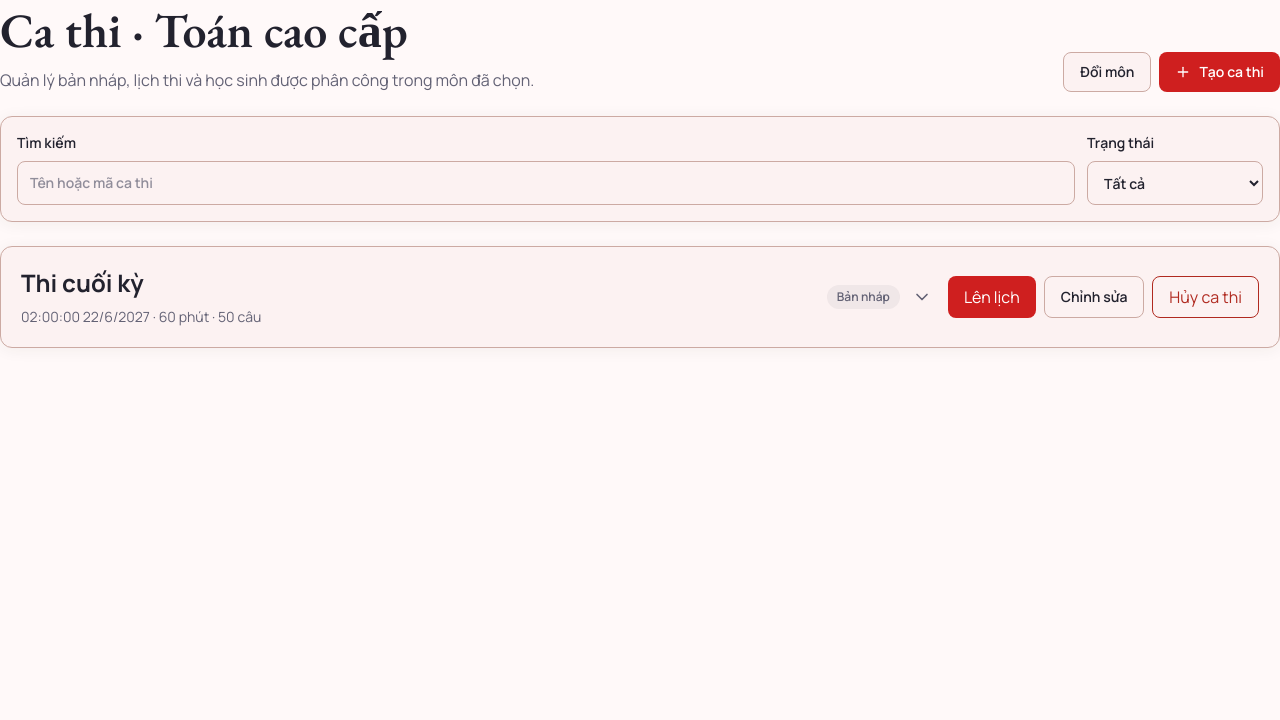
Test case: SubjectExamListPage › prevents duplicate scheduling submissions while pending
Step 1. Click the button "Lên lịch" → (992, 297), box [948,276,1036,318]
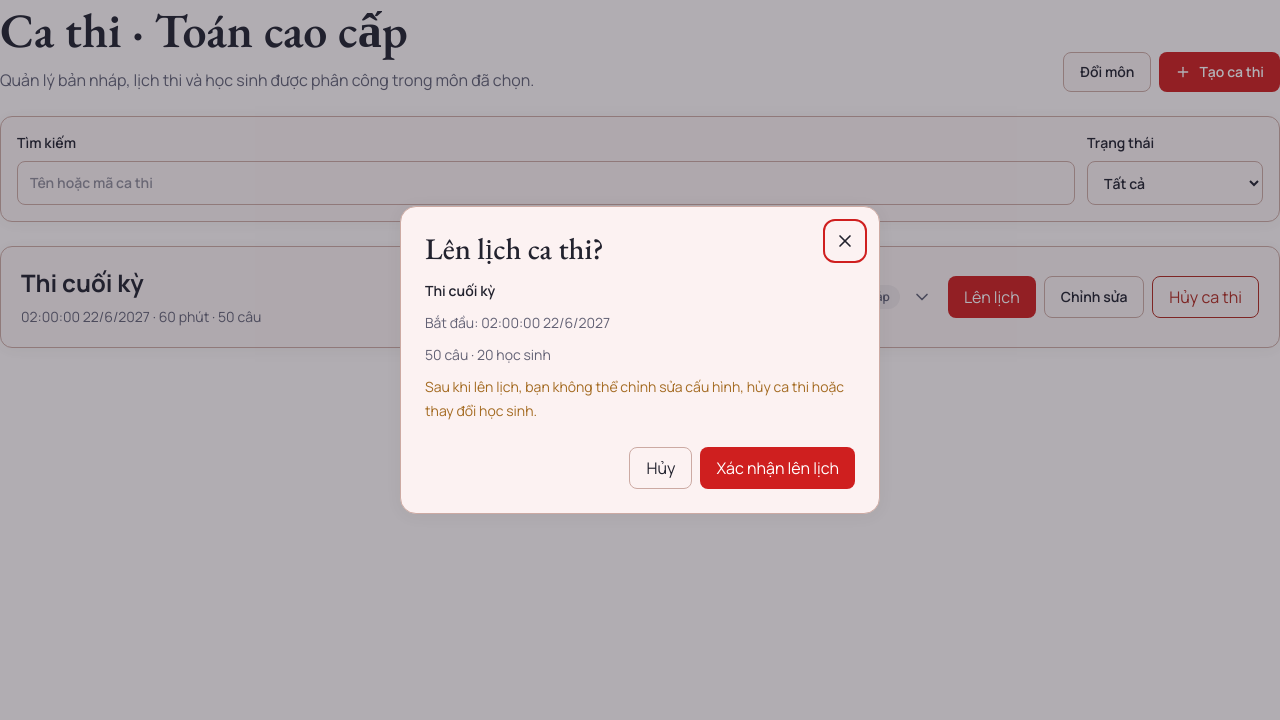
Step 2. Double-click the button "Xác nhận lên lịch" → (778, 468), box [700,447,855,489]
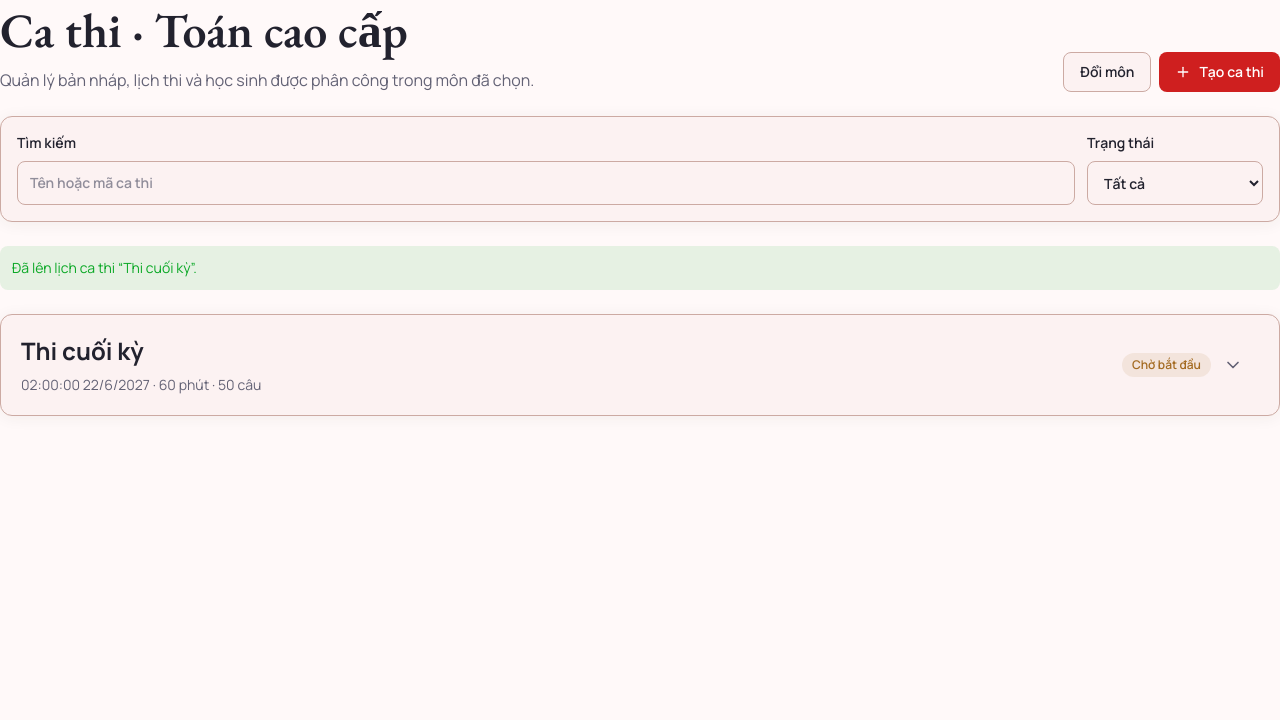
Now the text "Đã lên lịch ca thi “Thi cuối kỳ”." is shown, box [0,246,1279,290]
